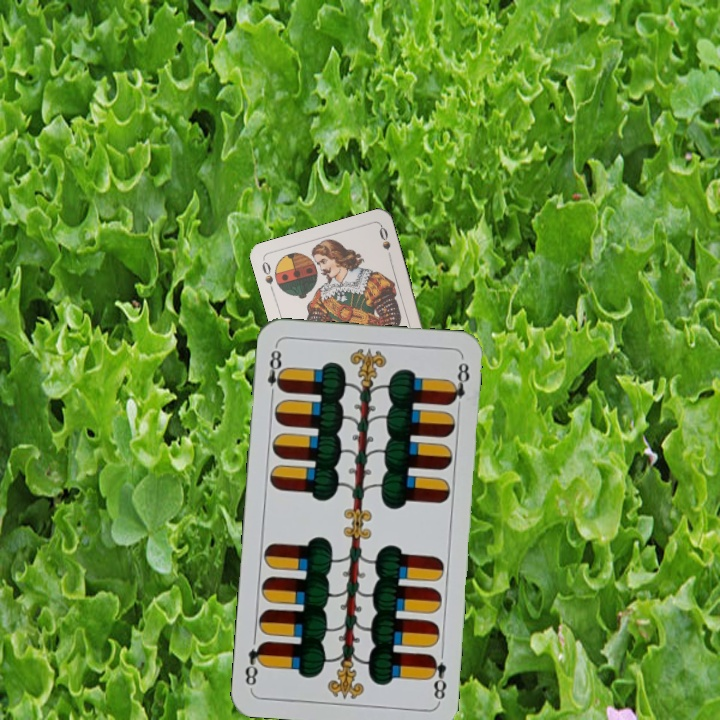E8: (263, 342, 287, 401), (425, 650, 450, 704)
SO: (258, 257, 277, 296)
